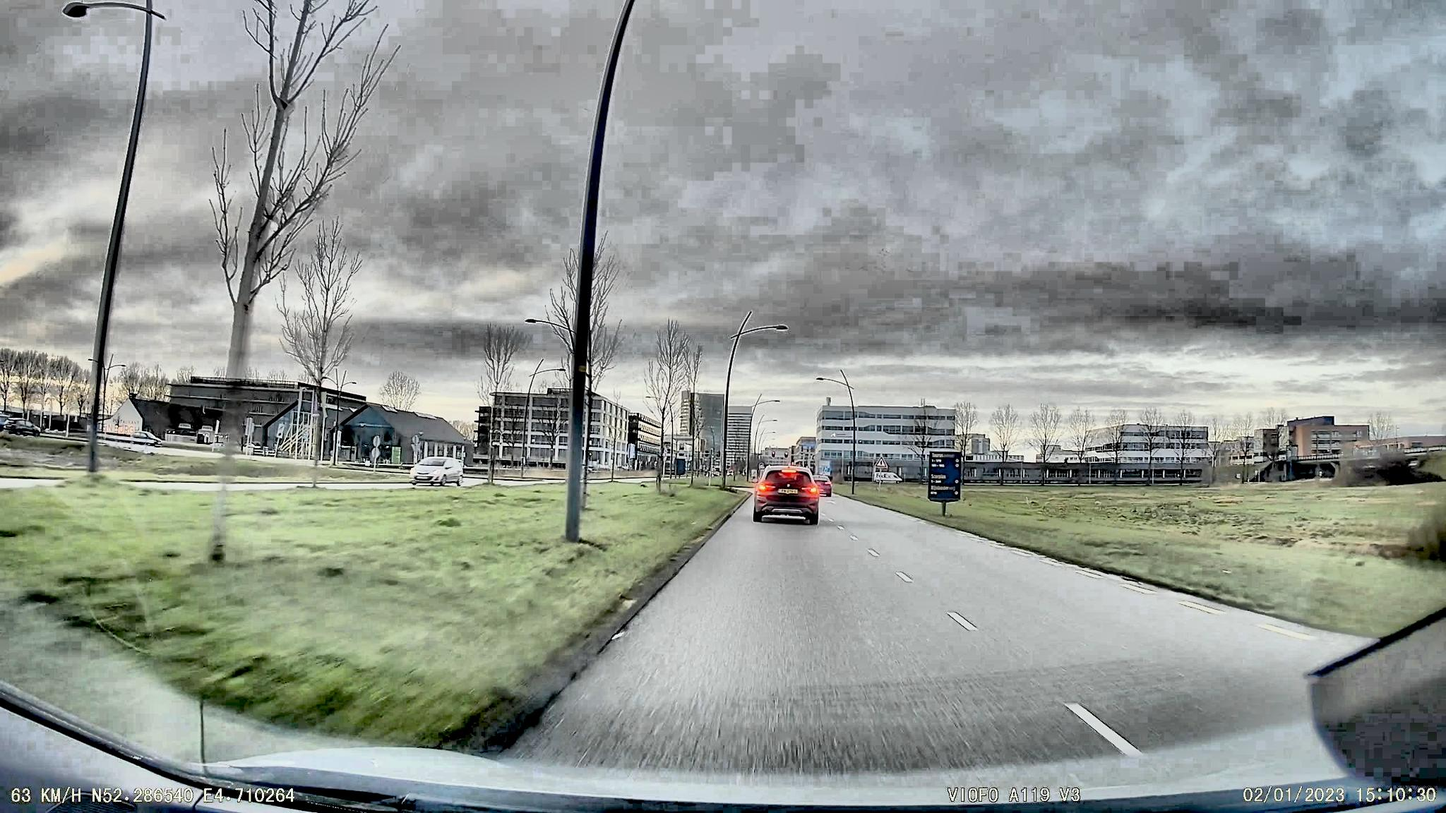Roads: (446, 499, 1446, 813)
